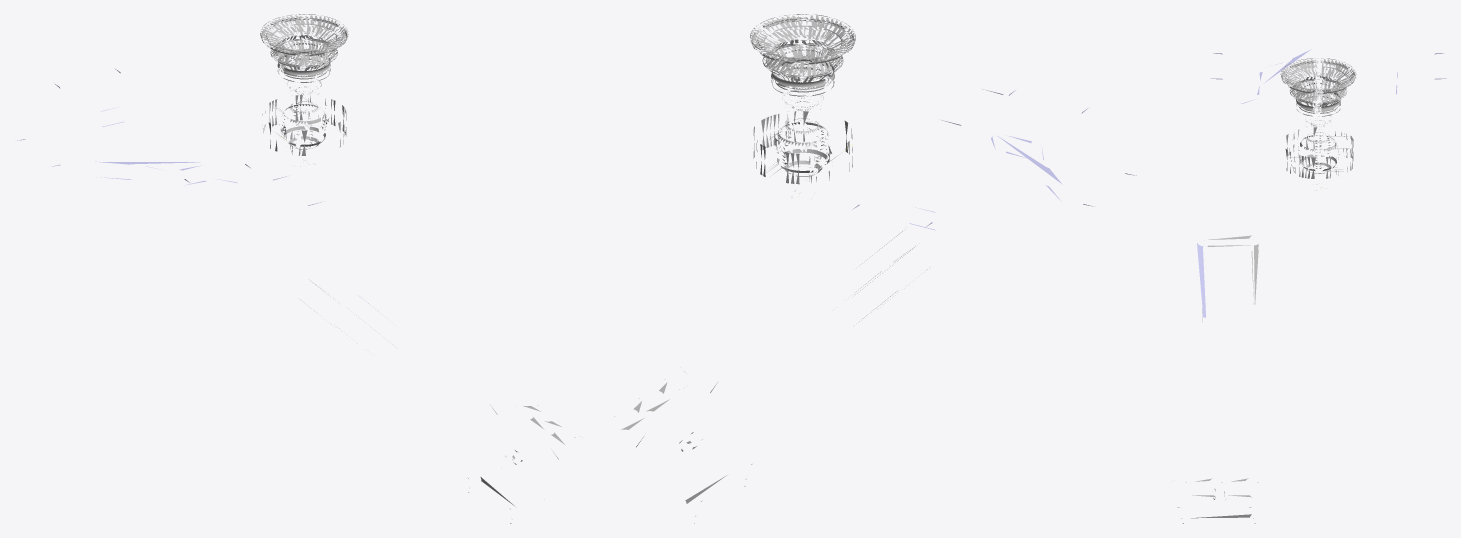
3 renders of one model, left to right at view 1: azimuth 30°, elevation 25°; view 2: azimuth 150°, elevation 25°; view 3: azimuth 270°, elevation 25°, orthographic. The views are drawn at different scales.
Parts seen in each view (by area): view 1: F19721000063101014153_001_zb_ub_einweiser_53_fa; view 2: F19721000063101014153_001_zb_ub_einweiser_53_fa; view 3: F19721000063101014153_001_zb_ub_einweiser_53_fa (×2).
Part boxes in pixels (<box>): F19721000063101014153_001_zb_ub_einweiser_53_fa: <box>260,14,580,523</box>; F19721000063101014153_001_zb_ub_einweiser_53_fa: <box>614,14,927,523</box>; F19721000063101014153_001_zb_ub_einweiser_53_fa (×2): <box>1177,49,1446,523</box>.
Bounding box in the file's own units: 381 × 234 × 366.
